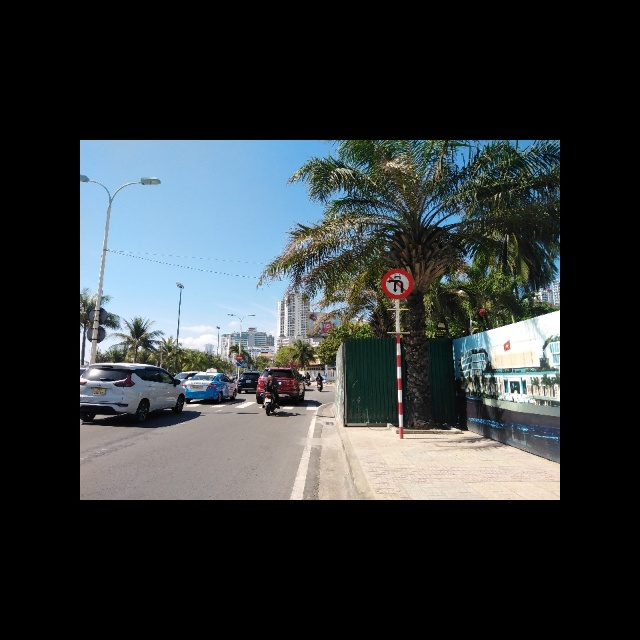Cấm xe ô tô quay đầu và rẽ trái: (381, 269, 412, 299)
